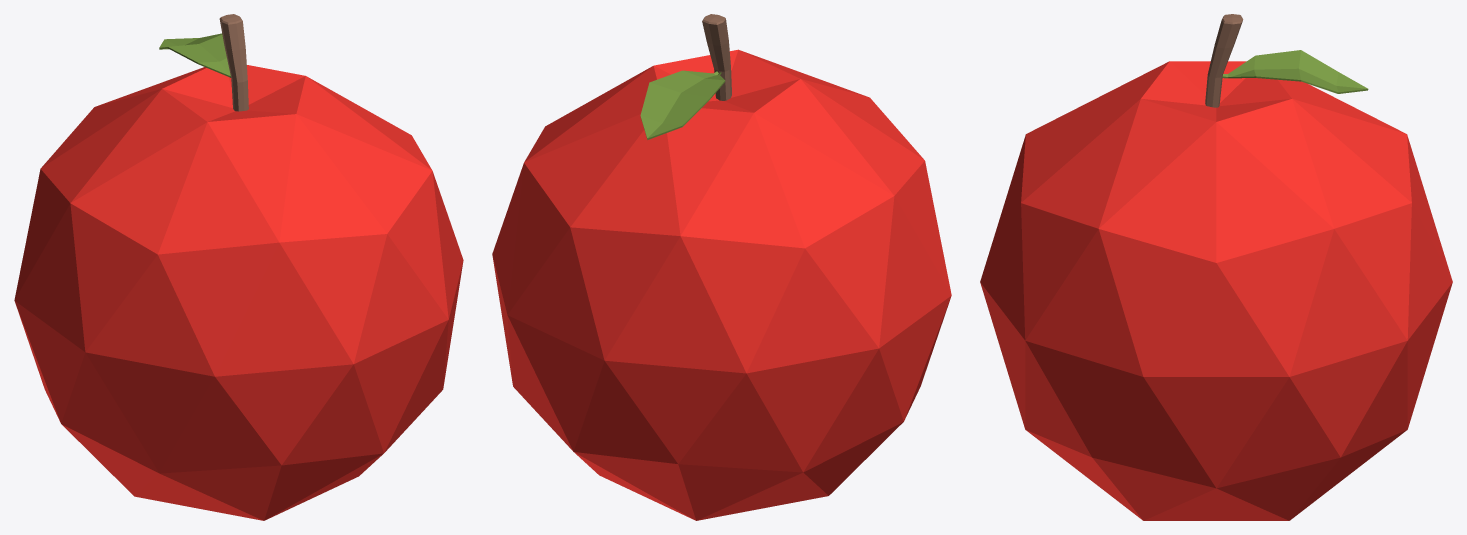
File: Apple_01.fbx
3 views of the same model, side by side, from view 1: azimuth 30°, elevation 25°; view 2: azimuth 150°, elevation 25°; view 3: azimuth 270°, elevation 25° (orthographic). The views are drawn at different scales.
Visible parts, largest first — view 1: Apple_01; view 2: Apple_01; view 3: Apple_01.
Boxes of the visible parts, x1,y1,x2,y2 form: Apple_01: (14,14,463,520); Apple_01: (492,14,951,520); Apple_01: (980,14,1452,520).
Bounding box in the file's own units: 9.69 × 11.24 × 10.19.
